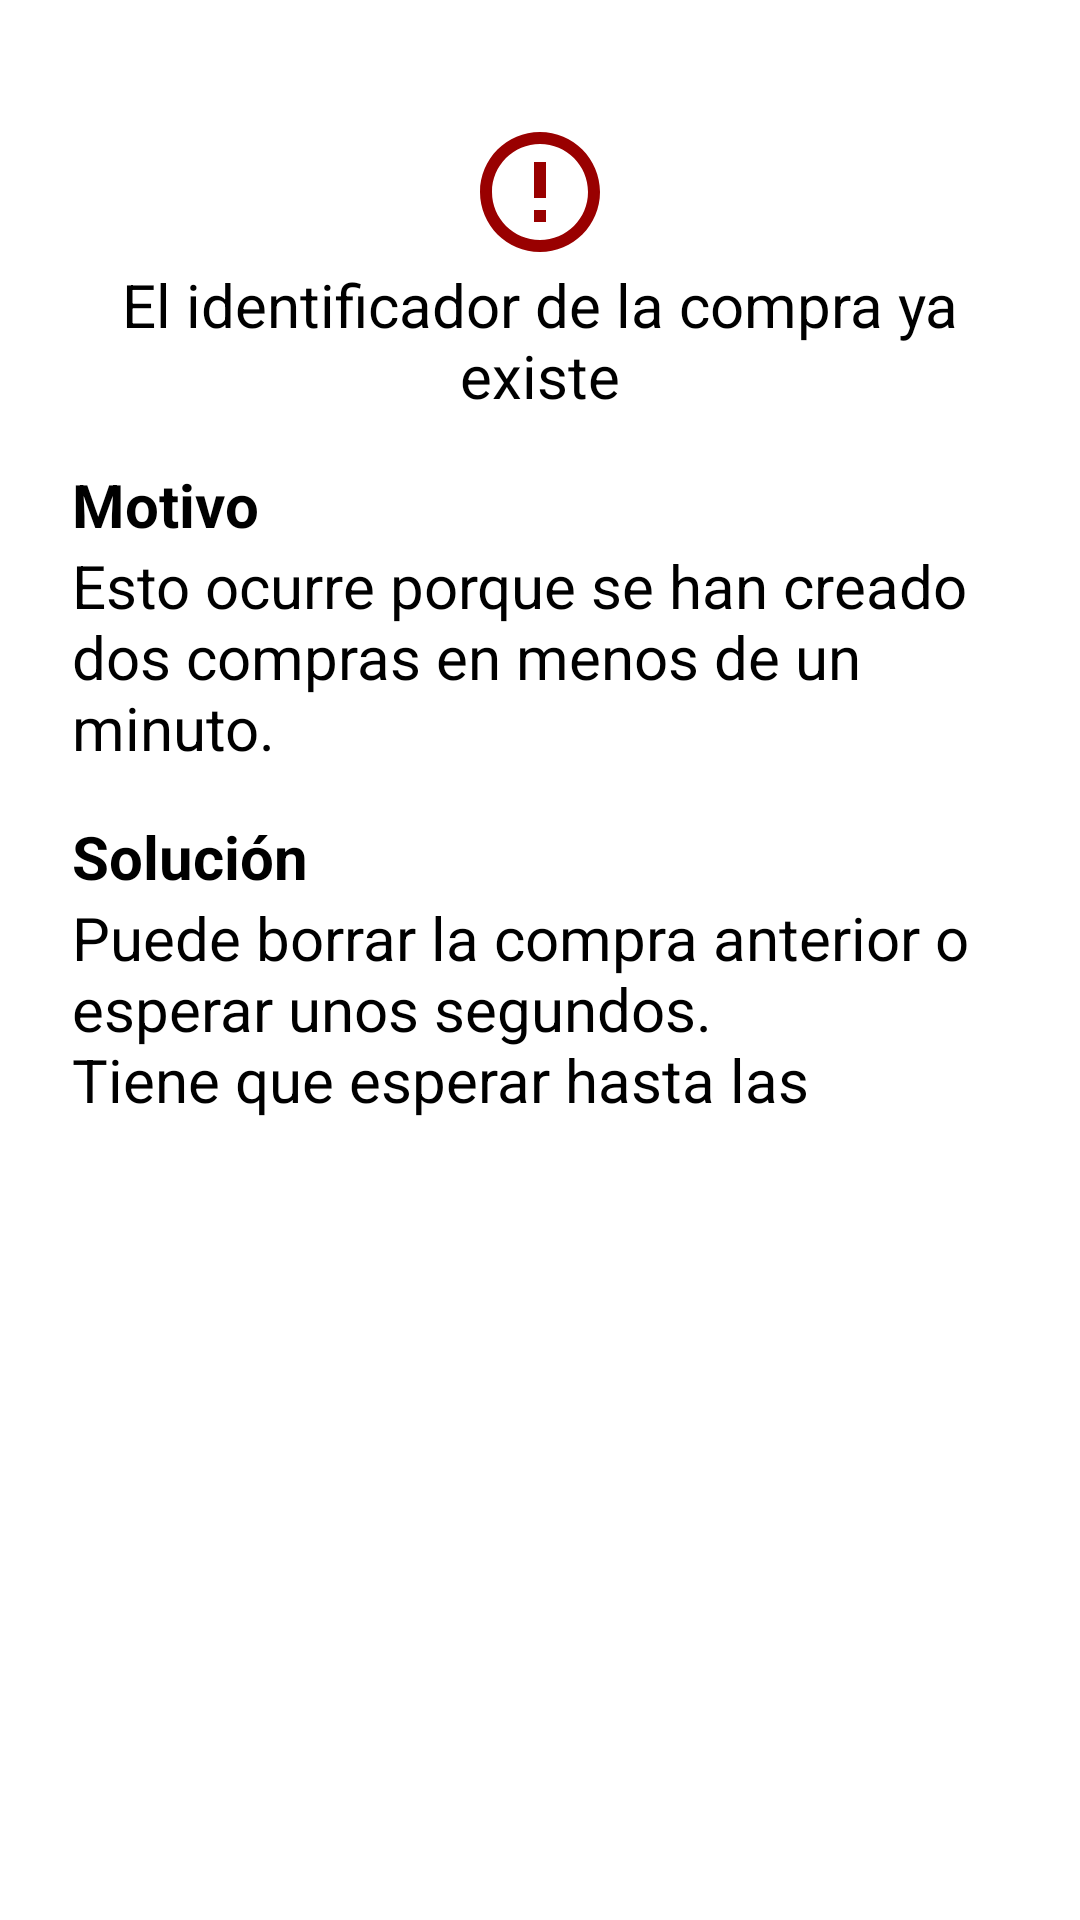

Icons on this 1080 x 1920 Android screen, each with its box as (x1, y1, x2, y2):
error: (480, 132, 600, 252)
